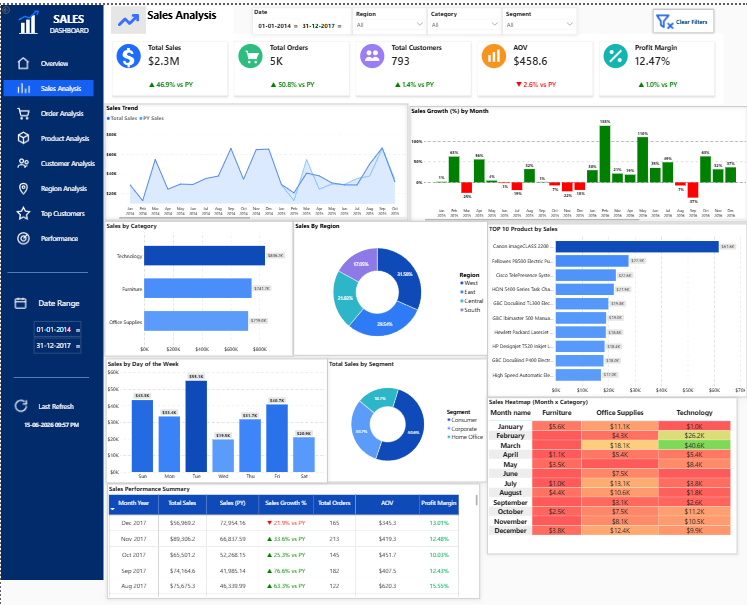

This screenshot's page, from the dashboard's own definition file:
{"tool":"powerbi","page":{"name":"Sales Analysis","canvas":[3000,2400],"ordinal":1},"visuals":[{"type":"cardVisual","fields":{"Data":["Factsales.Total Sales","Factsales.Total Orders","Factsales.Total Customers","Factsales.AOV","Factsales.Profit Margin"]},"box":[416.7,116.7,2473.3,283.3],"z":0},{"type":"lineChart","title":"Sales Trend","fields":{"Category":["Dimdate.Month Year"],"Y":["Factsales.Total Sales","Factsales.PY Sales"]},"box":[416.7,396.7,1213.3,466.7],"z":1000},{"type":"clusteredBarChart","title":"Sales by Category","fields":{"Y":["Factsales.Total Sales"],"Category":["Dimproduct.Category"]},"box":[416.7,863.3,753.3,540],"z":2000},{"type":"clusteredBarChart","title":"TOP 10 Product by Sales","fields":{"Y":["Factsales.Total Sales"],"Category":["Factsales.Product Name"]},"box":[1946.7,876.7,1043.3,693.3],"z":3000},{"type":"pivotTable","title":"Sales Performance Summary","fields":{"Values":["Factsales.Total Sales","Factsales.PY Sales","Factsales.Sales Growth Label","Factsales.Total Orders","Factsales.AOV","Factsales.Profit Margin"],"Rows":["Dimdate.Month Year"]},"box":[426.7,1913.3,1490,460],"z":4000},{"type":"shape","box":[0,0,410,2300],"z":5000},{"type":"textbox","box":[190,20,197.5,130],"z":6000},{"type":"actionButton","box":[10,200,360,65],"z":7000},{"type":"actionButton","box":[10,300,360,65],"z":8000},{"type":"actionButton","box":[10,500,360,66.7],"z":9000},{"type":"slicer","title":"Date","fields":{"Values":["Dimdate.Date"]},"box":[1002.5,7.5,400,110],"z":10000},{"type":"actionButton","box":[10,600,376.7,66.7],"z":11000},{"type":"actionButton","box":[10,700,360,66.7],"z":12000},{"type":"actionButton","box":[10,800,360,66.7],"z":13000},{"type":"actionButton","box":[10,900,360,66.7],"z":14000},{"type":"image","box":[2.5,7.5,225,130],"z":15000},{"type":"shape","box":[26.7,990,323.3,160],"z":16000},{"type":"actionButton","box":[0,1160,356.7,63.3],"z":17000},{"type":"slicer","fields":{"Values":["Dimdate.Date"]},"box":[120,1253.3,230,150],"z":18000},{"type":"shape","box":[50,1410,303.3,160],"z":19000},{"type":"cardVisual","fields":{"Data":["Dimdate.Last Refresh"]},"box":[66.7,1636.7,323.3,83.3],"z":20000},{"type":"actionButton","box":[0,1570,440,66.7],"z":21000},{"type":"slicer","fields":{"Values":["Factsales.Region"]},"box":[1402.5,7.5,300,110],"z":22000},{"type":"slicer","fields":{"Values":["Factsales.Category"]},"box":[1702.5,7.5,300,110],"z":23000},{"type":"slicer","fields":{"Values":["Factsales.Segment"]},"box":[2002.5,7.5,300,110],"z":24000},{"type":"donutChart","fields":{"Y":["Factsales.Total Sales"],"Category":["Dimcustomer.Segment"]},"box":[1306.7,1413.3,640,493.3],"z":25000},{"type":"actionButton","box":[2600,10,260,110],"z":26000},{"type":"textbox","box":[416.7,6.7,513.3,130],"z":27000},{"type":"clusteredColumnChart","title":"Sales Growth (%) by Month","fields":{"Category":["Dimdate.Month Year"],"Y":["Factsales.Sales Growth%"]},"box":[1633.3,403.3,1356.7,463.3],"z":28000},{"type":"donutChart","title":"Sales By Region","fields":{"Category":["Factsales.Region"],"Y":["Factsales.Total Sales"]},"box":[1170,866.7,776.7,536.7],"z":29000},{"type":"clusteredColumnChart","title":"Sales by Day of the Week","fields":{"Y":["Factsales.Total Sales"],"Category":["Dimdate.Short weekday"]},"box":[420,1413.3,886.7,496.7],"z":30000},{"type":"pivotTable","title":"Sales Heatmap (Month x Category)","fields":{"Values":["Factsales.Total Sales"],"Rows":["Dimdate.Month name"],"Columns":["Factsales.Category"]},"box":[1946.7,1570,1000,626.7],"z":31000},{"type":"actionButton","box":[0,0,100,40],"z":32000},{"type":"actionButton","box":[10,400,360,66.7],"z":33000},{"type":"image","box":[440,6.7,140,110],"z":34000}]}

Visuals, with their boxes on the page's 3000x2400 design canvas (x1, y1, x2, y2). These are canvas units, not pixel positions in the 747x605 screenshot, which may show the page scaled, cropped or inside an application window:
cardVisual - Factsales.Total Sales x Factsales.Total Orders: pyautogui.locateOnScreen(417, 117, 2890, 400)
"Sales Trend" lineChart: pyautogui.locateOnScreen(417, 397, 1630, 863)
"Sales by Category" clusteredBarChart: pyautogui.locateOnScreen(417, 863, 1170, 1403)
"TOP 10 Product by Sales" clusteredBarChart: pyautogui.locateOnScreen(1947, 877, 2990, 1570)
"Sales Performance Summary" pivotTable: pyautogui.locateOnScreen(427, 1913, 1917, 2373)
shape: pyautogui.locateOnScreen(0, 0, 410, 2300)
textbox: pyautogui.locateOnScreen(190, 20, 388, 150)
actionButton: pyautogui.locateOnScreen(10, 200, 370, 265)
actionButton: pyautogui.locateOnScreen(10, 300, 370, 365)
actionButton: pyautogui.locateOnScreen(10, 500, 370, 567)
"Date" slicer: pyautogui.locateOnScreen(1002, 8, 1402, 118)
actionButton: pyautogui.locateOnScreen(10, 600, 387, 667)
actionButton: pyautogui.locateOnScreen(10, 700, 370, 767)
actionButton: pyautogui.locateOnScreen(10, 800, 370, 867)
actionButton: pyautogui.locateOnScreen(10, 900, 370, 967)
image: pyautogui.locateOnScreen(2, 8, 228, 138)
shape: pyautogui.locateOnScreen(27, 990, 350, 1150)
actionButton: pyautogui.locateOnScreen(0, 1160, 357, 1223)
slicer - Dimdate.Date: pyautogui.locateOnScreen(120, 1253, 350, 1403)
shape: pyautogui.locateOnScreen(50, 1410, 353, 1570)
cardVisual - Dimdate.Last Refresh: pyautogui.locateOnScreen(67, 1637, 390, 1720)
actionButton: pyautogui.locateOnScreen(0, 1570, 440, 1637)
slicer - Factsales.Region: pyautogui.locateOnScreen(1402, 8, 1702, 118)
slicer - Factsales.Category: pyautogui.locateOnScreen(1702, 8, 2002, 118)
slicer - Factsales.Segment: pyautogui.locateOnScreen(2002, 8, 2302, 118)
donutChart - Factsales.Total Sales x Dimcustomer.Segment: pyautogui.locateOnScreen(1307, 1413, 1947, 1907)
actionButton: pyautogui.locateOnScreen(2600, 10, 2860, 120)
textbox: pyautogui.locateOnScreen(417, 7, 930, 137)
"Sales Growth (%) by Month" clusteredColumnChart: pyautogui.locateOnScreen(1633, 403, 2990, 867)
"Sales By Region" donutChart: pyautogui.locateOnScreen(1170, 867, 1947, 1403)
"Sales by Day of the Week" clusteredColumnChart: pyautogui.locateOnScreen(420, 1413, 1307, 1910)
"Sales Heatmap (Month x Category)" pivotTable: pyautogui.locateOnScreen(1947, 1570, 2947, 2197)
actionButton: pyautogui.locateOnScreen(0, 0, 100, 40)
actionButton: pyautogui.locateOnScreen(10, 400, 370, 467)
image: pyautogui.locateOnScreen(440, 7, 580, 117)
